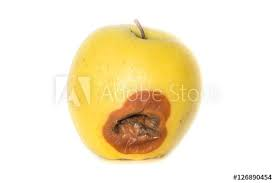damaged_apple: (66, 29, 203, 164)
